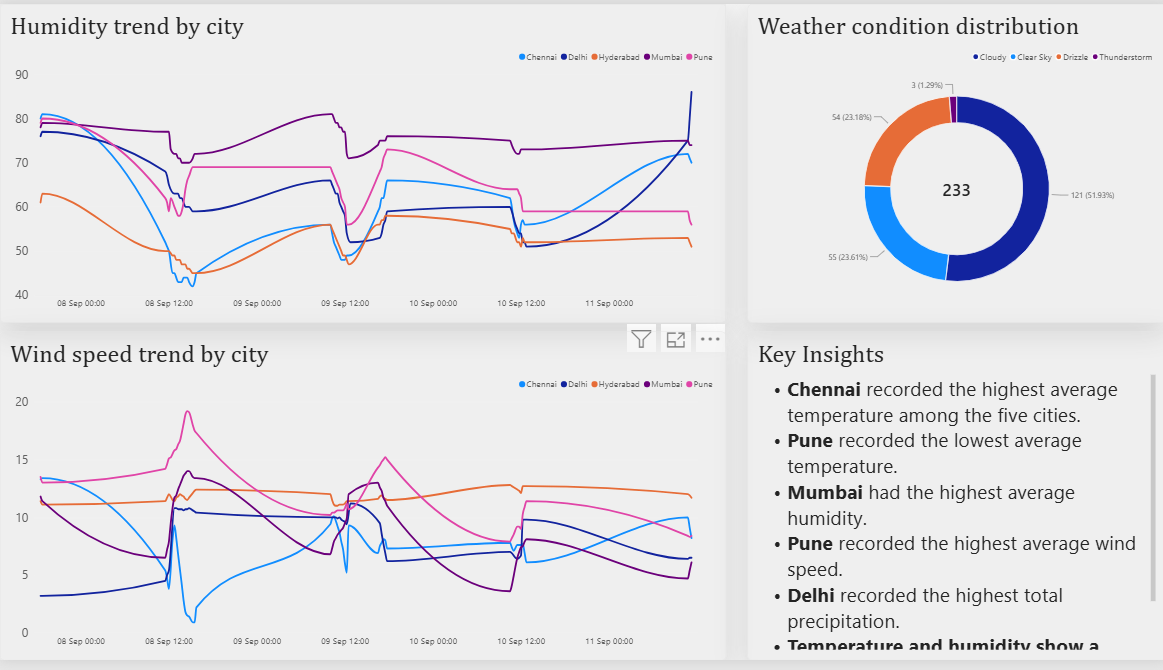

What the dashboard file says about the page in this screenshot:
{"tool":"powerbi","page":{"name":"Page 2","canvas":[1920,1080],"ordinal":1},"visuals":[{"type":"lineChart","title":"Humidity trend by city","fields":{"Category":["public weather_data.timestamp"],"Series":["public weather_data.city"],"Y":["Avg(public weather_data.humidity)"]},"box":[0,0,1195.9,524.9],"z":0},{"type":"lineChart","title":"Wind speed trend by city","fields":{"Category":["public weather_data.timestamp"],"Series":["public weather_data.city"],"Y":["Avg(public weather_data.wind_speed)"]},"box":[0,539.3,1195.9,541.3],"z":1000},{"type":"donutChart","title":"Weather condition distribution","fields":{"Category":["public weather_data.Weather Condition"],"Y":["CountNonNull(public weather_data.Weather Condition)"]},"box":[1230.9,0,689.5,524.9],"z":2000},{"type":"textbox","title":"Key Insights","box":[1230.9,539.3,689.5,541.3],"z":3000}]}

Visuals, with their boxes in screenshot pixels (x1, y1, x2, y2), scaled from the page's 1920x1080 canvas onto the 1163x670 screenshot:
"Humidity trend by city" lineChart: <region>0, 0, 724, 326</region>
"Wind speed trend by city" lineChart: <region>0, 335, 724, 669</region>
"Weather condition distribution" donutChart: <region>746, 0, 1162, 326</region>
"Key Insights" textbox: <region>746, 335, 1162, 669</region>
